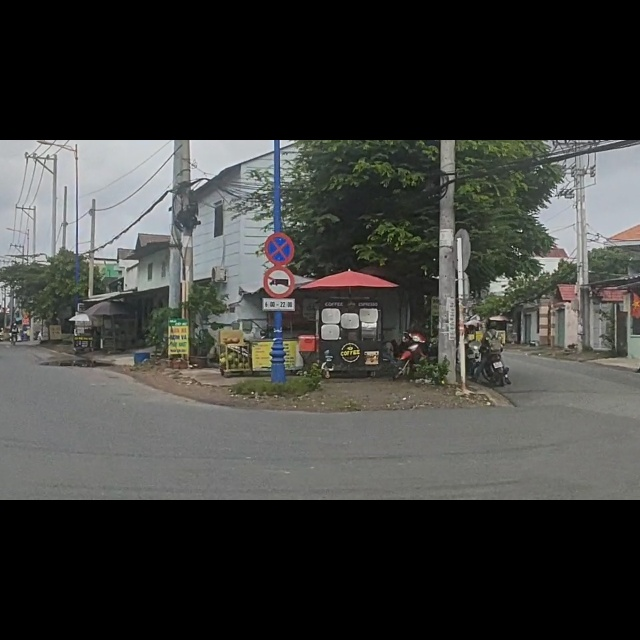bien_cam: (265, 164, 296, 222), (264, 223, 295, 280)
